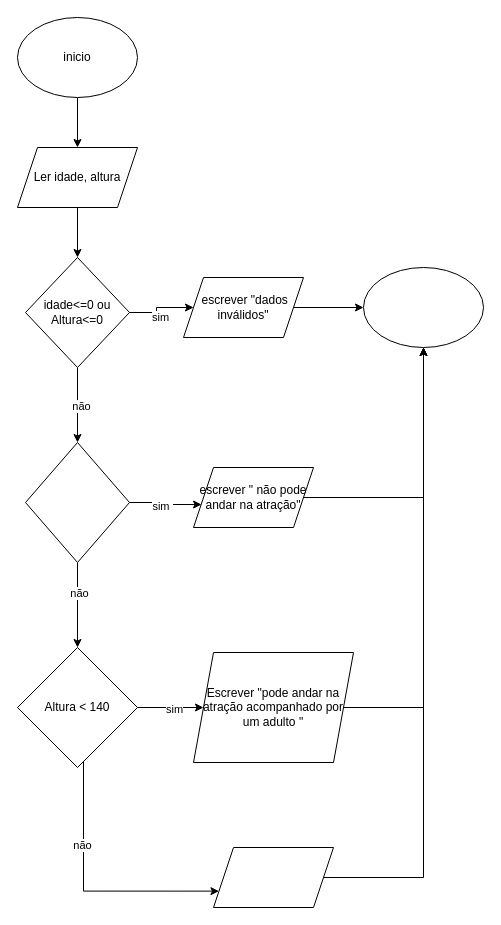
The diagram is 501 pixels wide and 925 high, and some of its shapes have lost their labels. Here are the shapes that lost their labels. From the top down, the box of each, then its label:
(362, 266, 484, 348): fim
(24, 442, 130, 562): idade < 12
(212, 846, 334, 908): escrever "pode andar sozinho"
